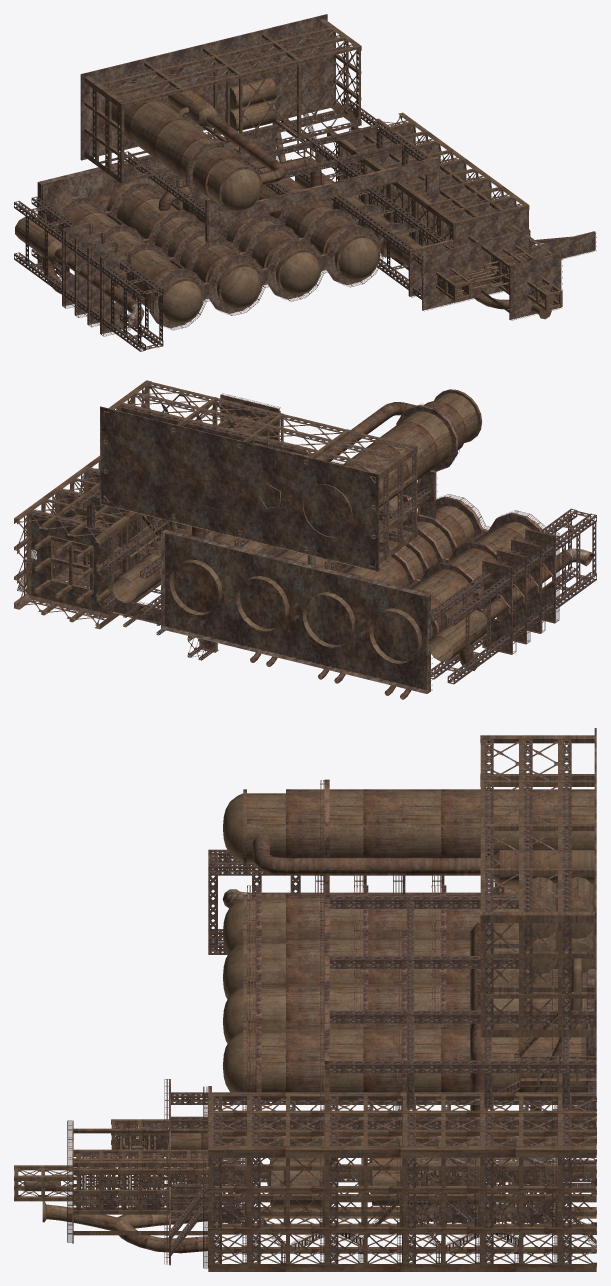
The picture shows the model from 3 angles, top to bottom: view 1: azimuth 30°, elevation 25°; view 2: azimuth 150°, elevation 25°; view 3: azimuth 270°, elevation 25°; orthographic projection. The views are drawn at different scales.
Parts seen in each view (by area): view 1: LOD0_0_bg008b_building, LOD0_2_bg008b_building, LOD0_1_bg008b_building, LOD0_3_bg008b_building, LOD0_4_bg008b_building; view 2: LOD0_2_bg008b_building, LOD0_0_bg008b_building, LOD0_1_bg008b_building, LOD0_3_bg008b_building, LOD0_4_bg008b_building; view 3: LOD0_0_bg008b_building, LOD0_1_bg008b_building, LOD0_3_bg008b_building, LOD0_4_bg008b_building, LOD0_2_bg008b_building.
Boxes of the visible parts, x1=… form: LOD0_0_bg008b_building: x1=15, y1=18, x2=562, y2=325; LOD0_2_bg008b_building: x1=37, y1=14, x2=594, y2=333; LOD0_1_bg008b_building: x1=14, y1=26, x2=592, y2=351; LOD0_3_bg008b_building: x1=40, y1=113, x2=596, y2=336; LOD0_4_bg008b_building: x1=57, y1=167, x2=531, y2=297; LOD0_2_bg008b_building: x1=31, y1=397, x2=554, y2=693; LOD0_0_bg008b_building: x1=14, y1=380, x2=571, y2=699; LOD0_1_bg008b_building: x1=16, y1=383, x2=596, y2=684; LOD0_3_bg008b_building: x1=17, y1=393, x2=559, y2=691; LOD0_4_bg008b_building: x1=53, y1=414, x2=262, y2=587; LOD0_0_bg008b_building: x1=14, y1=735, x2=596, y2=1271; LOD0_1_bg008b_building: x1=18, y1=739, x2=596, y2=1266; LOD0_3_bg008b_building: x1=67, y1=779, x2=596, y2=1268; LOD0_4_bg008b_building: x1=73, y1=1123, x2=555, y2=1223; LOD0_2_bg008b_building: x1=587, y1=728, x2=596, y2=1110.
Size of the model in its own units: 163 by 71 by 120.
